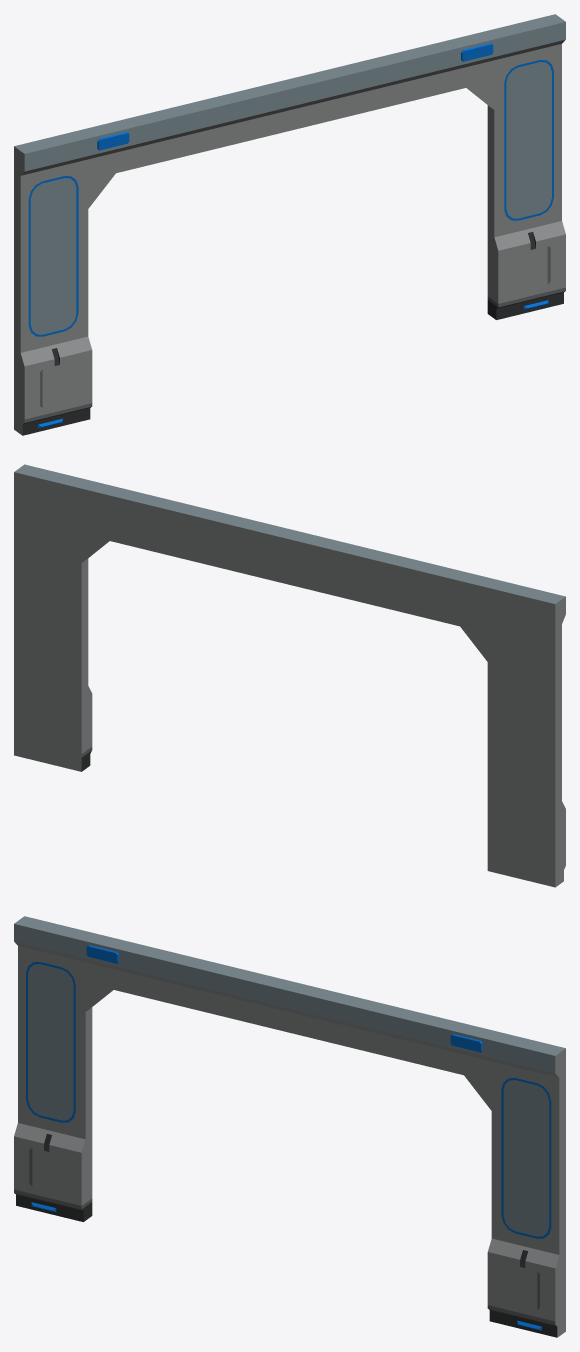
The model's file is Wall_type_B_056.fbx.
3 views of the same model, one above another, from view 1: azimuth 30°, elevation 25°; view 2: azimuth 150°, elevation 25°; view 3: azimuth 330°, elevation 25° (orthographic).
Visible parts, largest first — view 1: Wall_type_B_056; view 2: Wall_type_B_056; view 3: Wall_type_B_056.
Boxes of the visible parts, left/top/right/bottom form: Wall_type_B_056: left=14, top=14, right=565, bottom=435; Wall_type_B_056: left=14, top=464, right=565, bottom=887; Wall_type_B_056: left=14, top=916, right=565, bottom=1337.
Bounding box in the file's own units: 800 × 28.98 × 400.
